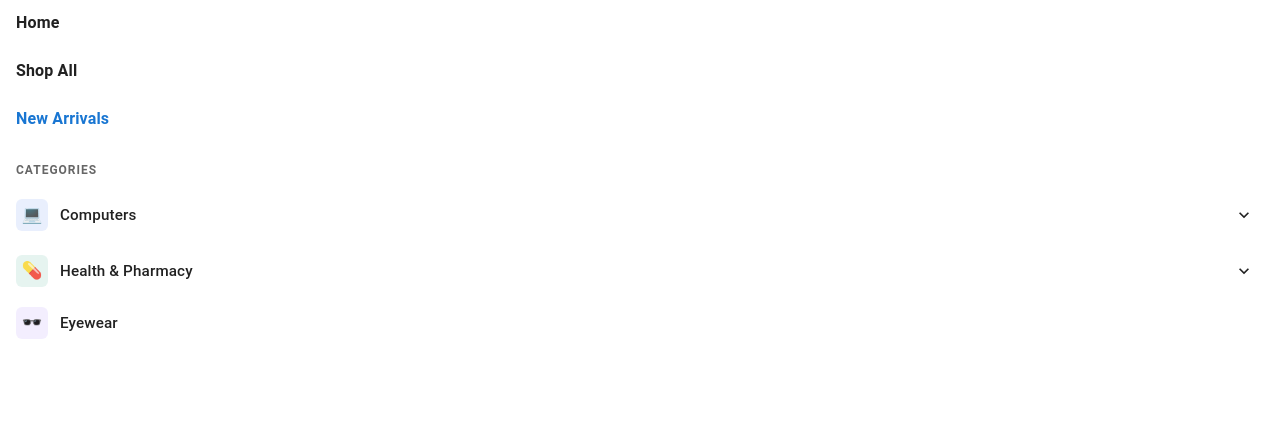
Test: expanding one parent does not expand the others
Click the button named "Expand Health & Pharmacy" at (1244, 271), box [1234,261,1254,281]
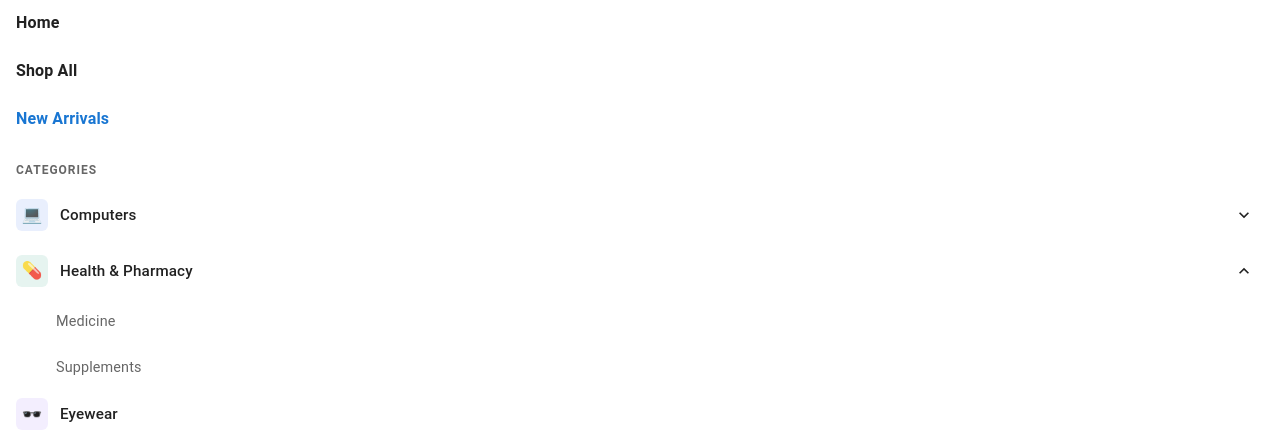
Check: the text "Medicine" is shown, box [56,313,116,330]
